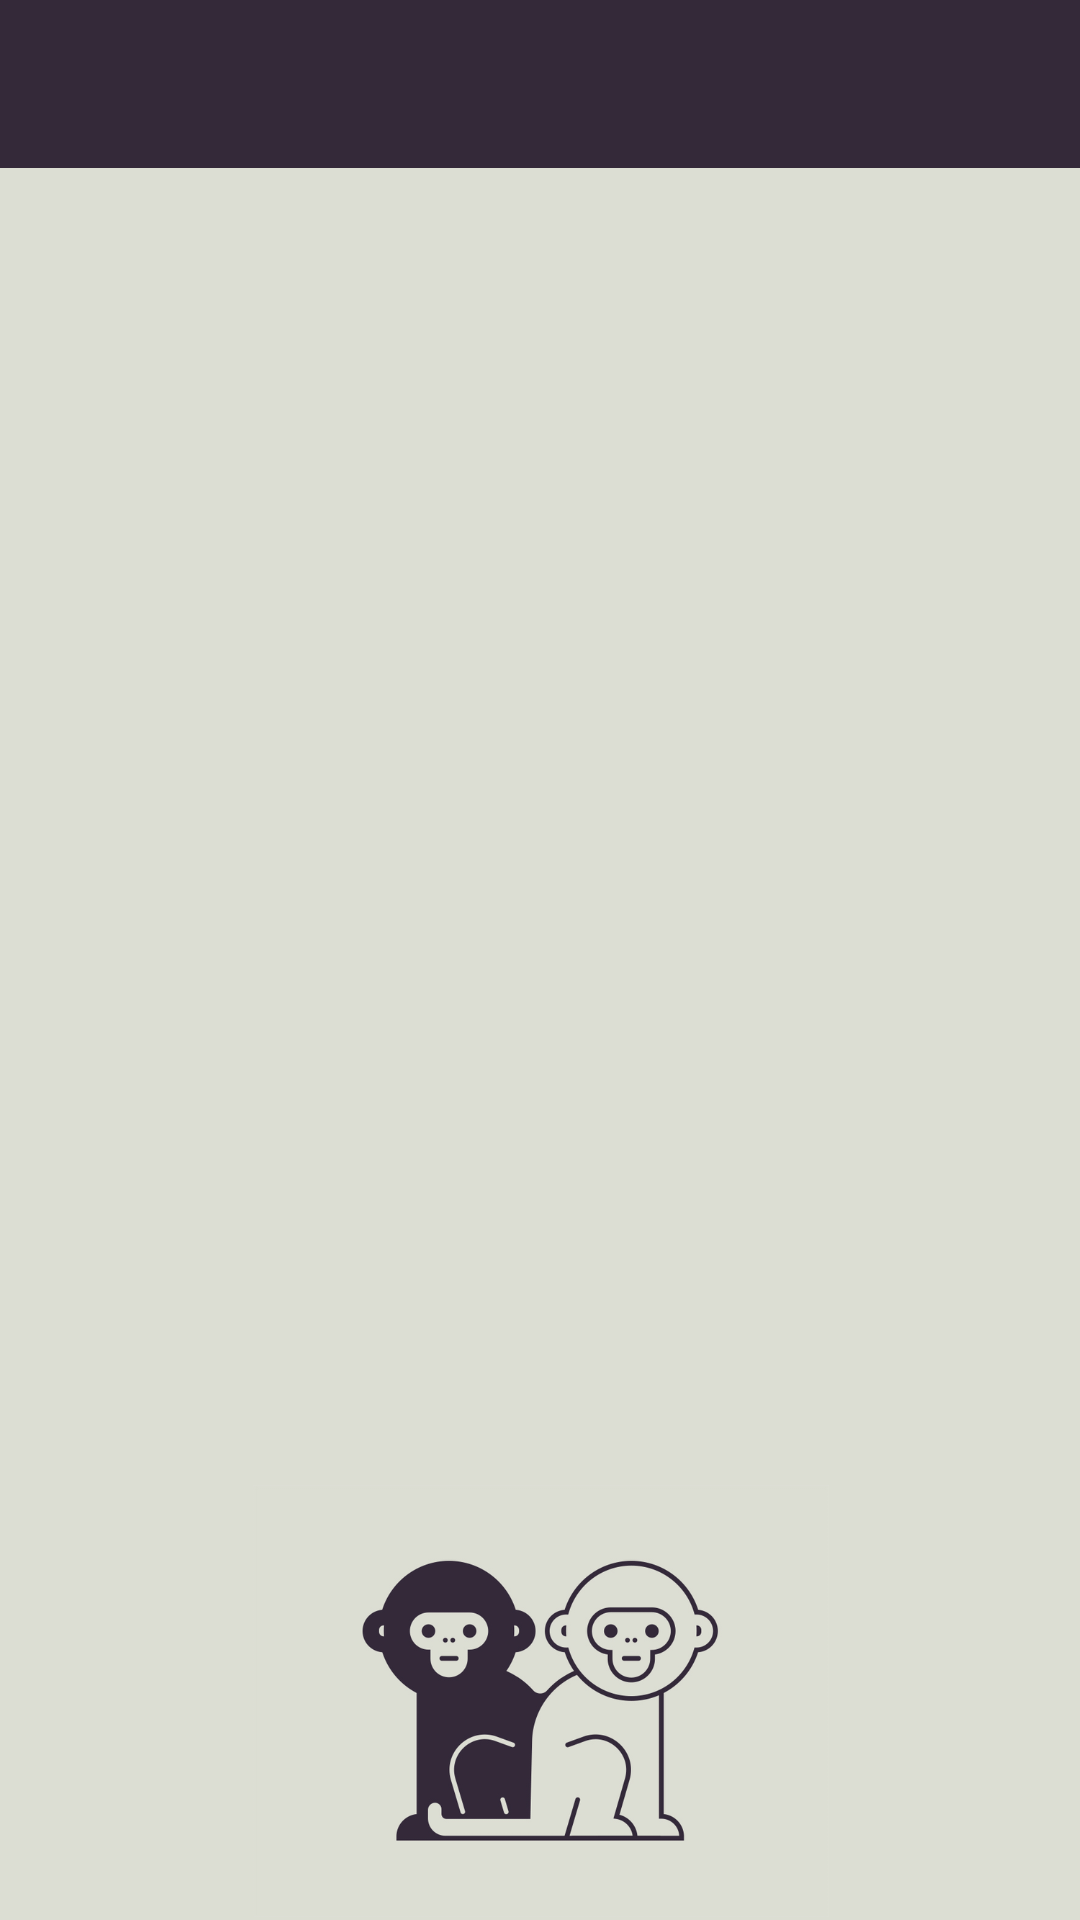

Icons on this 1080x1920 Android screen, each with its box as [left=x1, top=y1, right=x2, bottom=y2]:
monkeys: [left=362, top=1560, right=718, bottom=1841]
